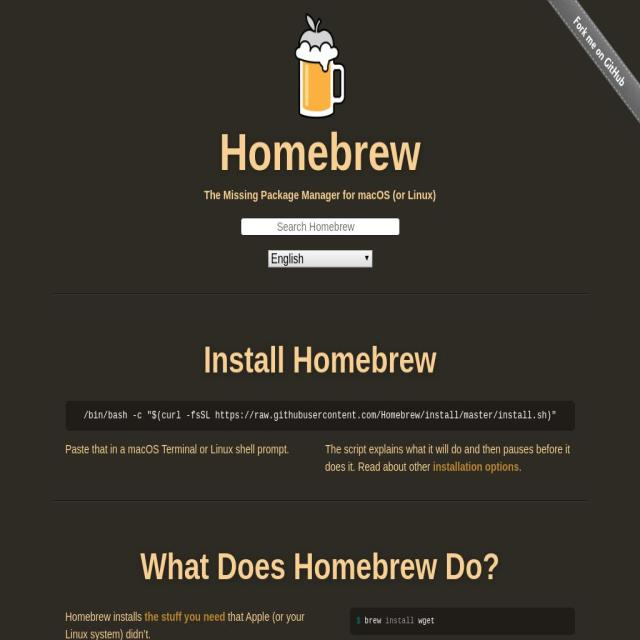field: (240, 217, 400, 236), (268, 250, 372, 268)
heading: (65, 338, 575, 380), (65, 545, 575, 587), (218, 122, 420, 181)
image: (547, 0, 640, 124), (280, 13, 360, 119)
link: (432, 459, 518, 474), (144, 609, 226, 624)
text: (325, 442, 571, 474), (65, 609, 305, 640), (83, 409, 556, 423), (65, 440, 315, 458), (204, 188, 436, 202), (65, 609, 144, 624), (385, 616, 419, 626), (364, 616, 386, 626), (418, 616, 436, 626), (356, 616, 365, 626), (519, 459, 522, 474)
